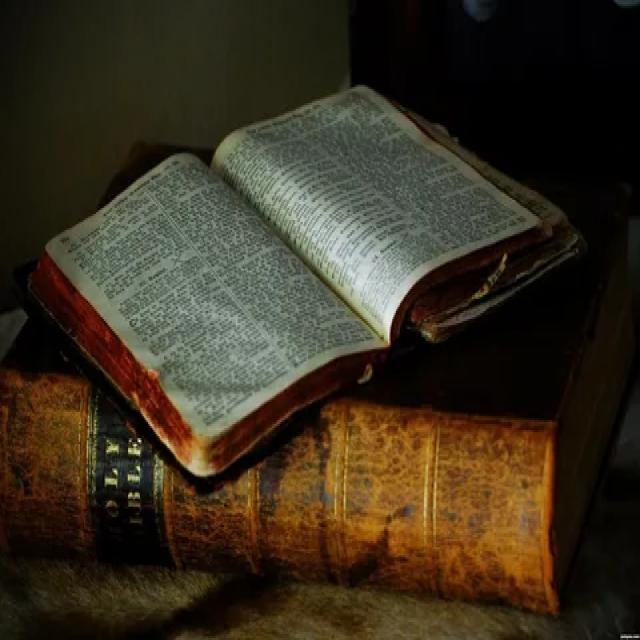book: (26, 66, 582, 477)
